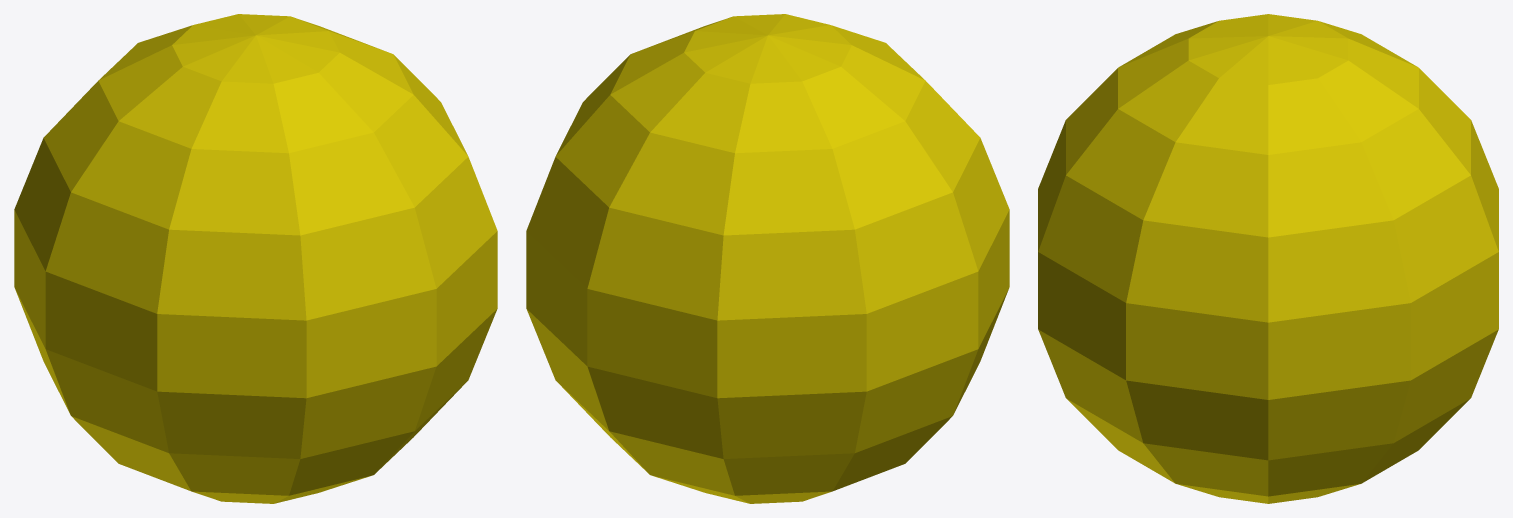
The model's file is food.fbx.
The picture shows the model from 3 angles, left to right: view 1: azimuth 30°, elevation 25°; view 2: azimuth 150°, elevation 25°; view 3: azimuth 270°, elevation 25°; orthographic projection.
Visible parts, largest first — view 1: pSphere1; view 2: pSphere1; view 3: pSphere1.
Boxes of the visible parts, left/top/right/bottom form: pSphere1: left=14, top=14, right=497, bottom=503; pSphere1: left=526, top=14, right=1009, bottom=503; pSphere1: left=1038, top=14, right=1498, bottom=503.
Size of the model in its own units: 1.97 by 2 by 1.87.
